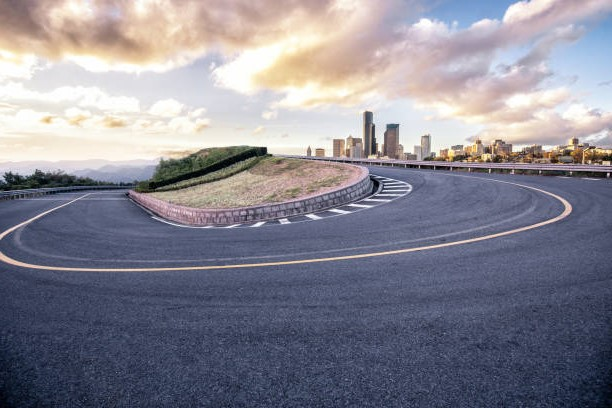leftTrun: (384, 166, 612, 294)
